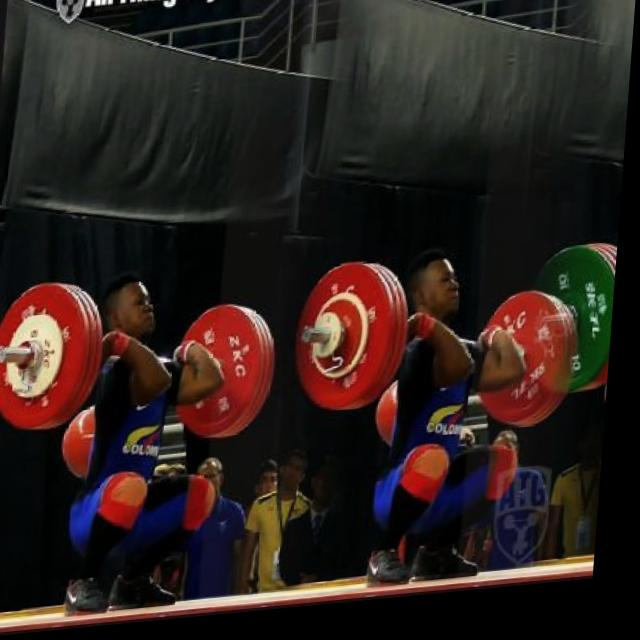barbell: (301, 264, 405, 425), (1, 276, 101, 438)
